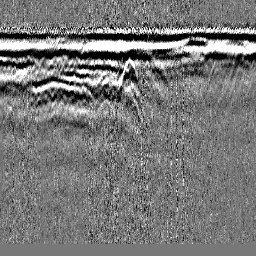cavity: (118, 56, 139, 89)
